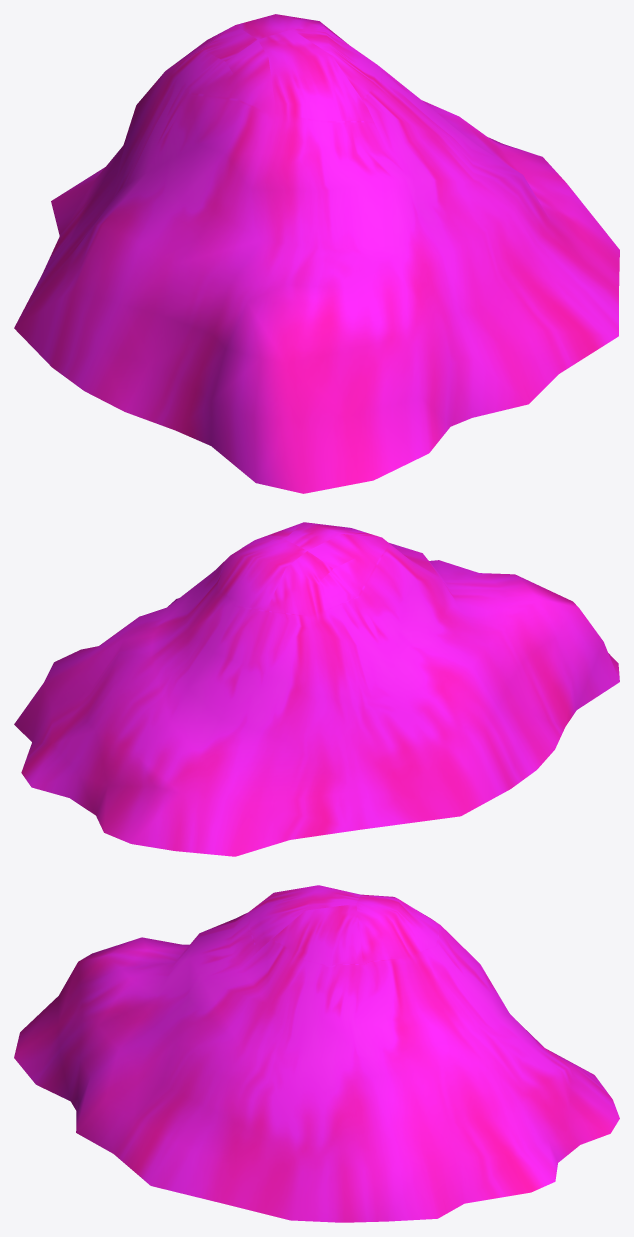
File: env_bosstrain_lavapuddle01.fbx
3 views of the same model, one above another, from view 1: azimuth 30°, elevation 25°; view 2: azimuth 150°, elevation 25°; view 3: azimuth 270°, elevation 25° (orthographic). The views are drawn at different scales.
Parts seen in each view (by area): view 1: env_bosstrain_lavapuddle01_lod2; view 2: env_bosstrain_lavapuddle01_lod2; view 3: env_bosstrain_lavapuddle01_lod2.
Part boxes in pixels (x1,y1,x2,y2): env_bosstrain_lavapuddle01_lod2: (14,14,619,493); env_bosstrain_lavapuddle01_lod2: (14,522,619,856); env_bosstrain_lavapuddle01_lod2: (14,885,619,1222).
Size of the model in its own units: 95.42 by 43.06 by 115.
